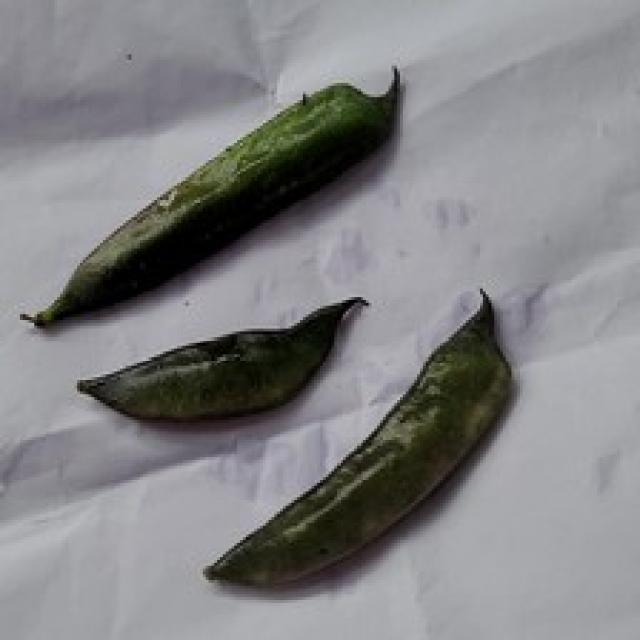Bean: (17, 63, 400, 328), (200, 286, 511, 586), (74, 294, 369, 423)
